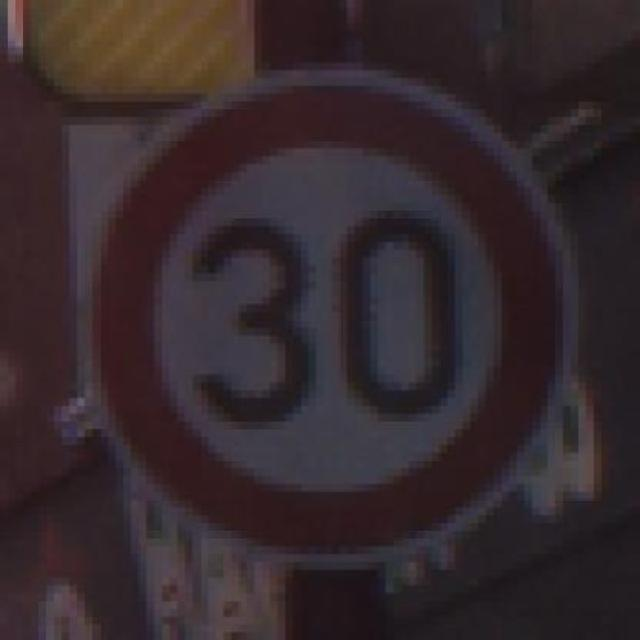Speed Limit 30 KMPh: (46, 70, 602, 578)
